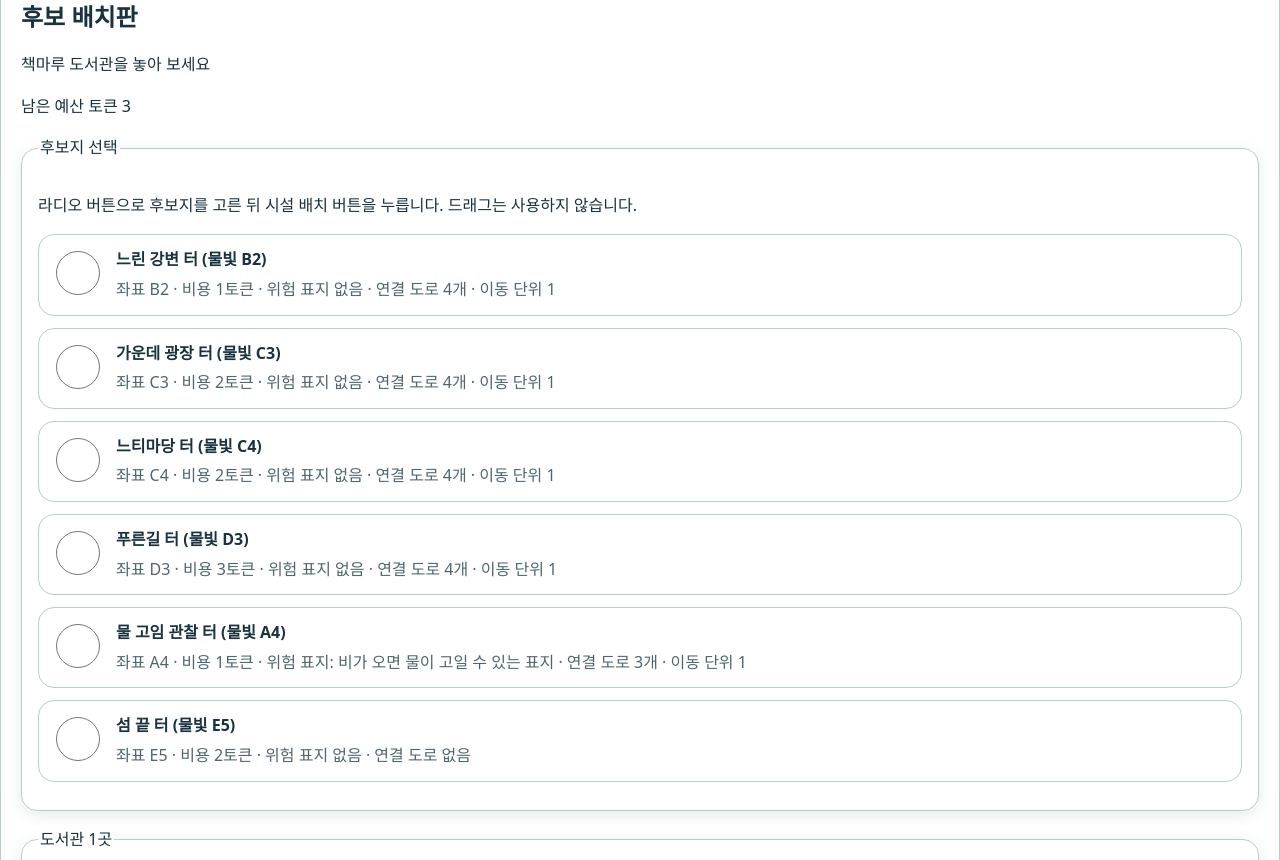
it: FacilityPlacementPanel › replaces the current slot and refreshes its budget and coordinate text
This screenshot has width=1280, height=860.
Click the 2nd radio button at [78, 367], box [56,345,100,389]
(page scrolled)
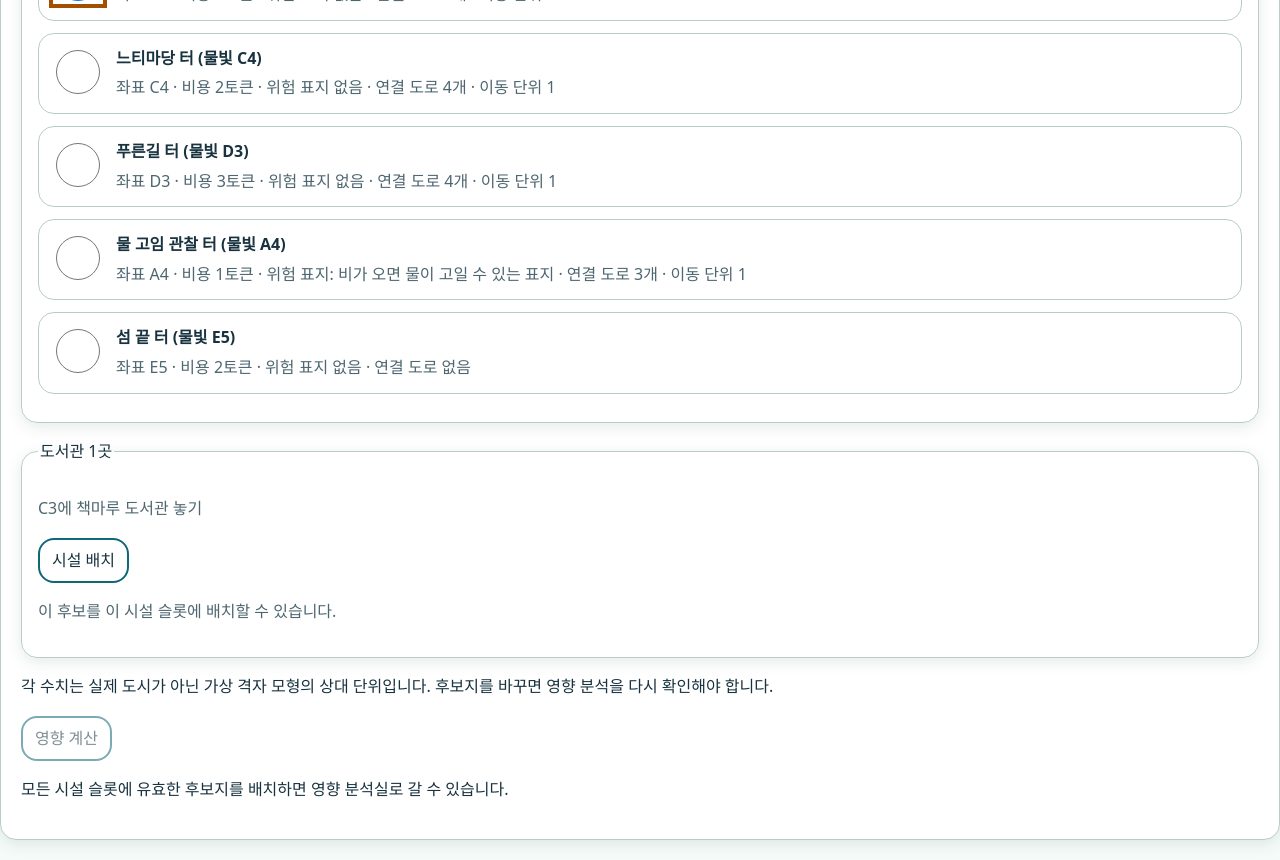
Click the button "시설 배치" at [84, 561], box [38,538,129,583]
(page scrolled)
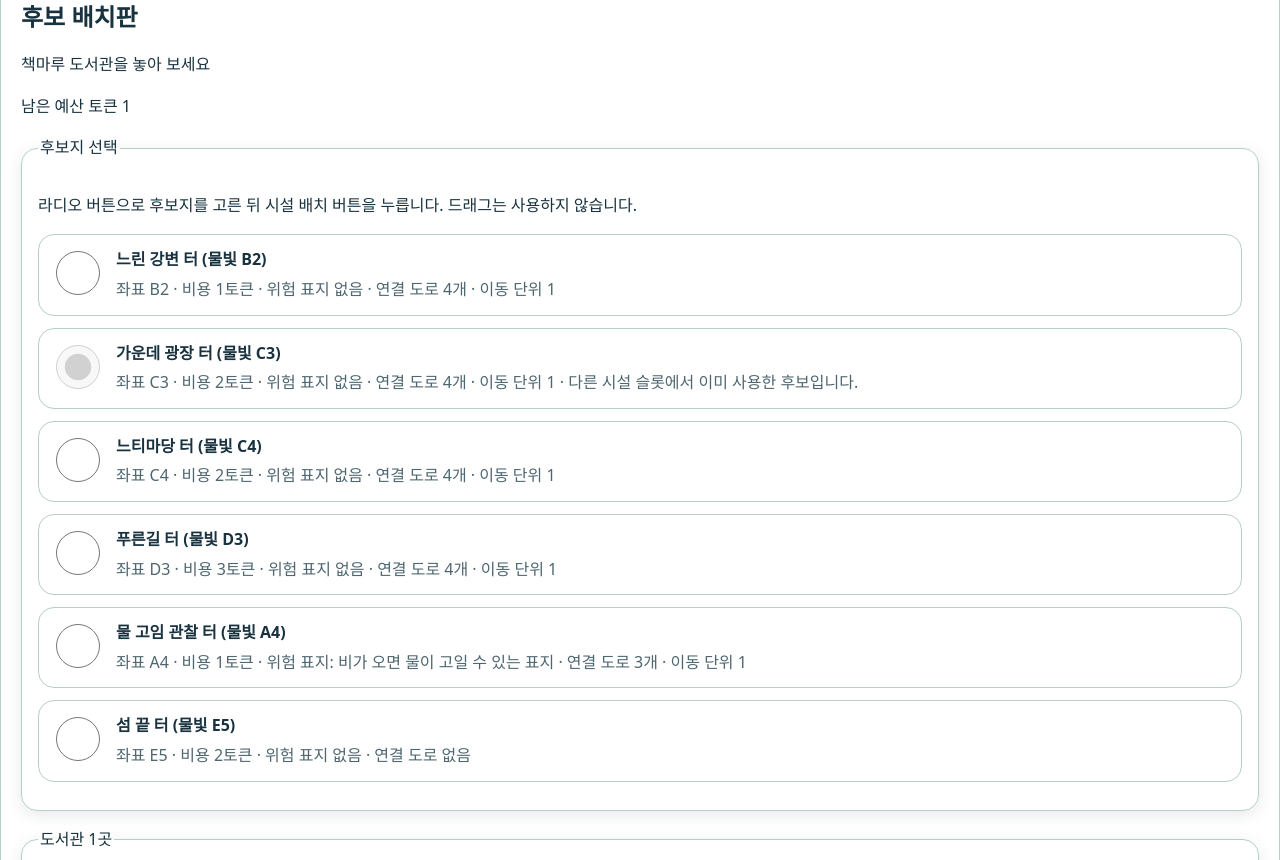
expect the text "남은 예산 토큰 1" is shown: met, box [21,95,131,117]
Click the 1st radio button at [78, 274], box [56,252,100,296]
(page scrolled)
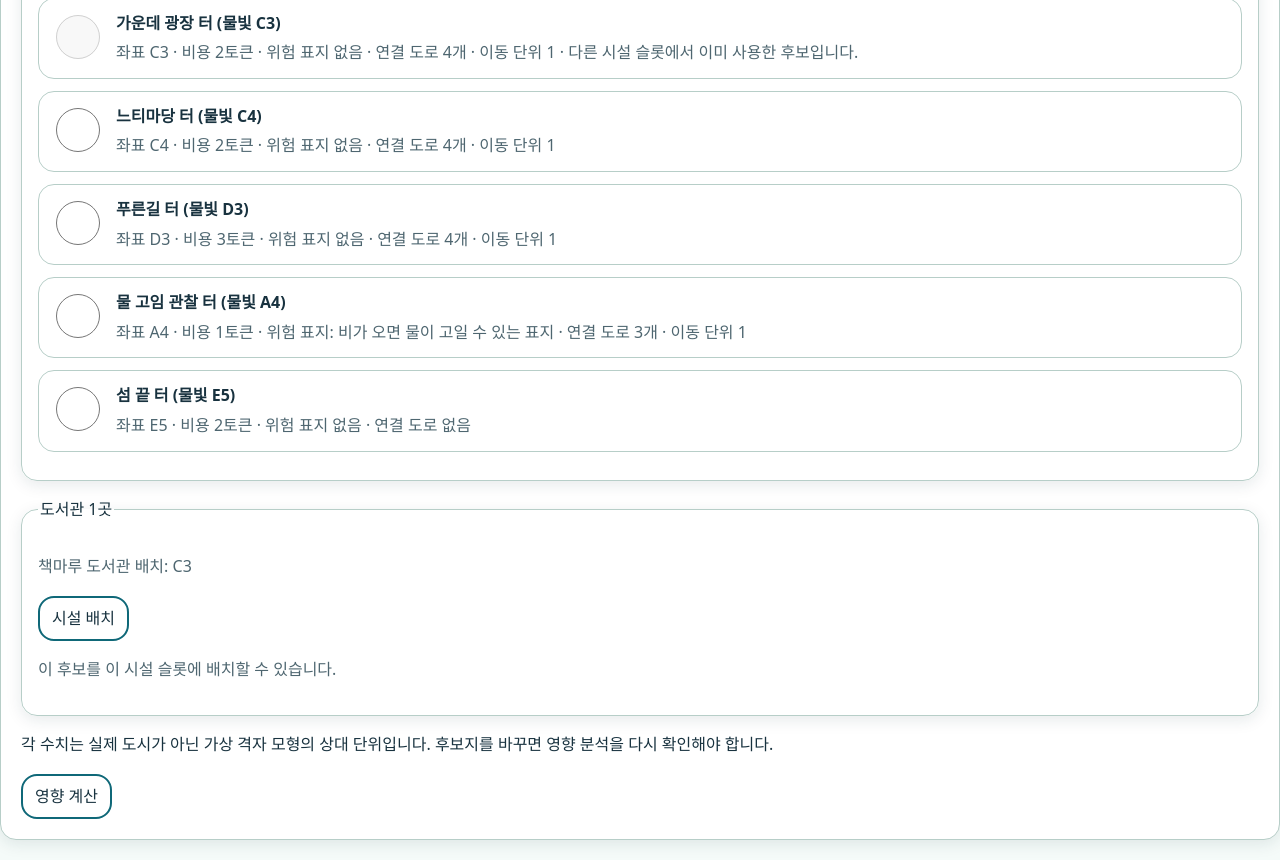
Click the button "시설 배치" at [84, 619], box [38,596,129,641]
(page scrolled)
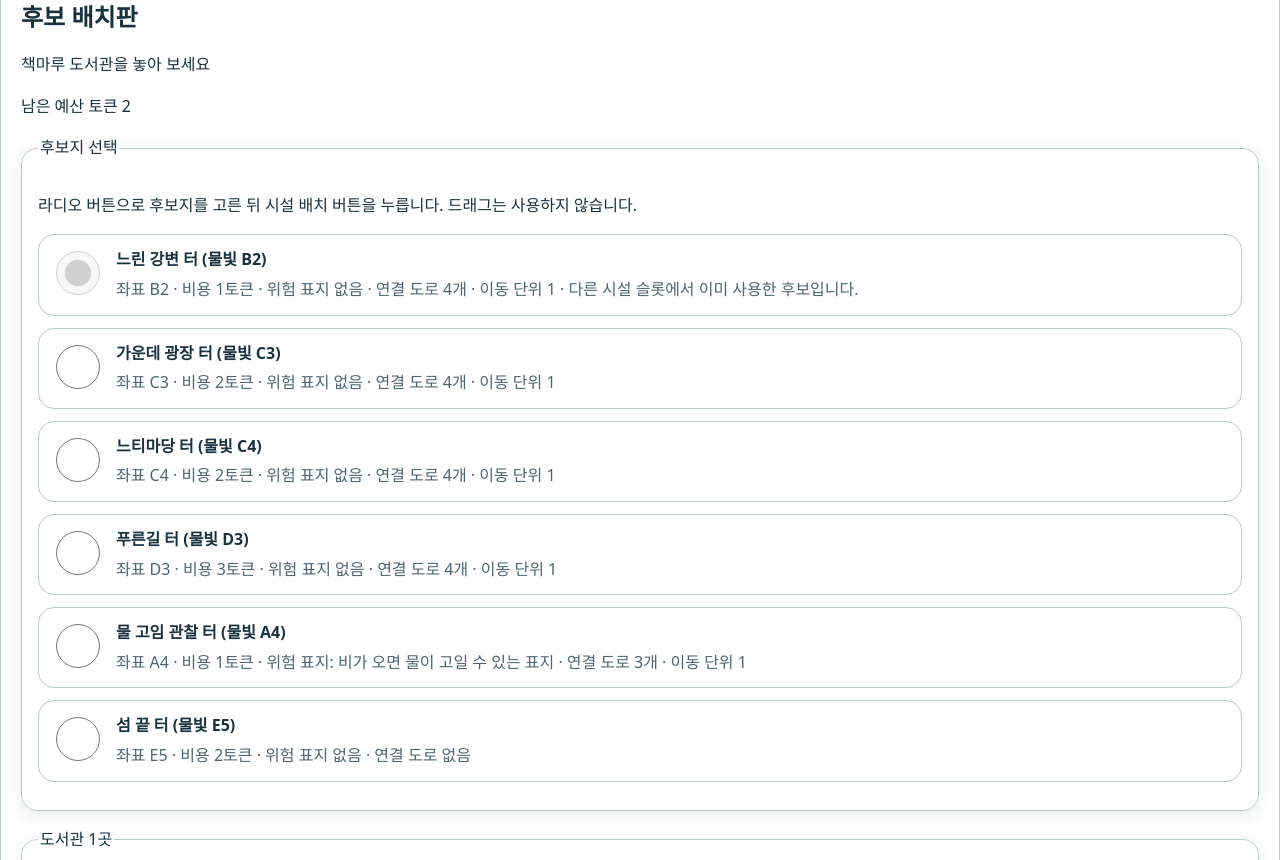
expect the text "남은 예산 토큰 2" is shown: met, box [21,95,131,117]
